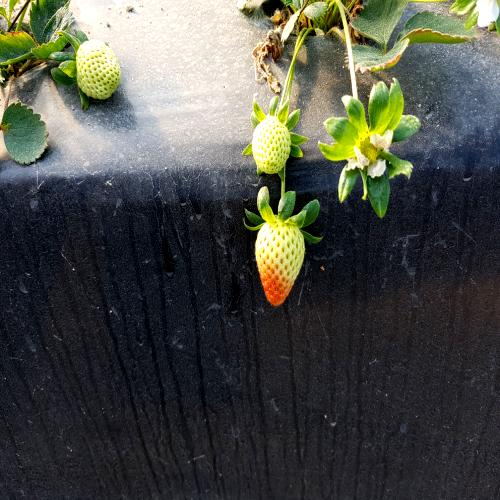partially-ripe: (255, 213, 306, 311)
